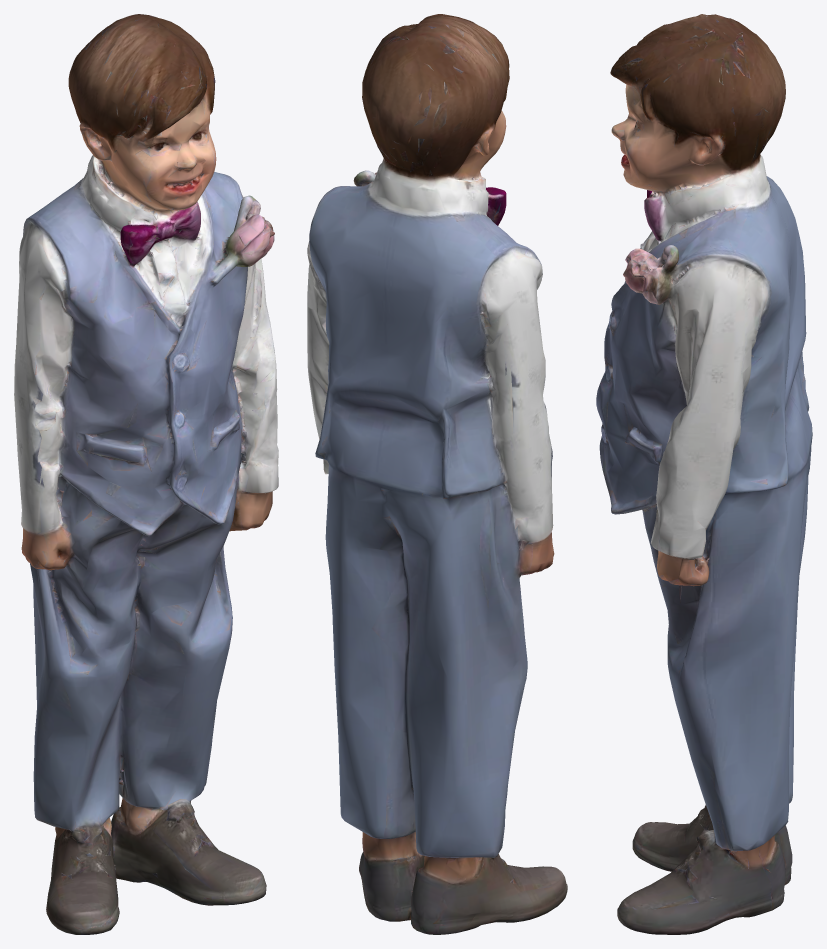
The model's file is luke-base.glb.
3 views of the same model, side by side, from view 1: azimuth 30°, elevation 25°; view 2: azimuth 150°, elevation 25°; view 3: azimuth 270°, elevation 25° (orthographic).
Parts seen in each view (by area): view 1: Mesh_0; view 2: Mesh_0; view 3: Mesh_0.
Part boxes in pixels (x1,y1,x2,y2): Mesh_0: (14, 14, 278, 934); Mesh_0: (307, 14, 567, 934); Mesh_0: (596, 14, 812, 934).
Size of the model in its own units: 0.5373 by 1.91 by 0.4287.
Materials: 1 (1 with a texture image).
